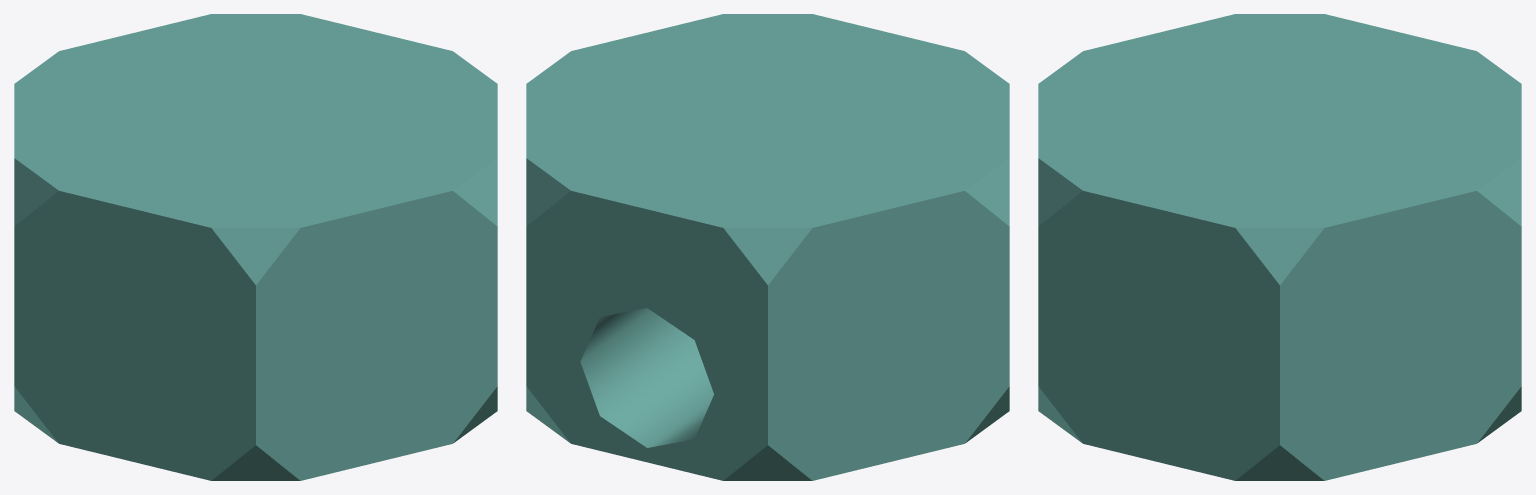
File: collector.glb
The picture shows the model from 3 angles, left to right: view 1: azimuth 30°, elevation 25°; view 2: azimuth 150°, elevation 25°; view 3: azimuth 270°, elevation 25°; orthographic projection.
Parts seen in each view (by area): view 1: Collector-col; view 2: Collector-col; view 3: Collector-col.
Part boxes in pixels (<box>): Collector-col: <box>14,14,497,480</box>; Collector-col: <box>526,14,1009,480</box>; Collector-col: <box>1038,14,1521,480</box>.
Bounding box in the file's own units: 1.73 × 0.867 × 1.5.
